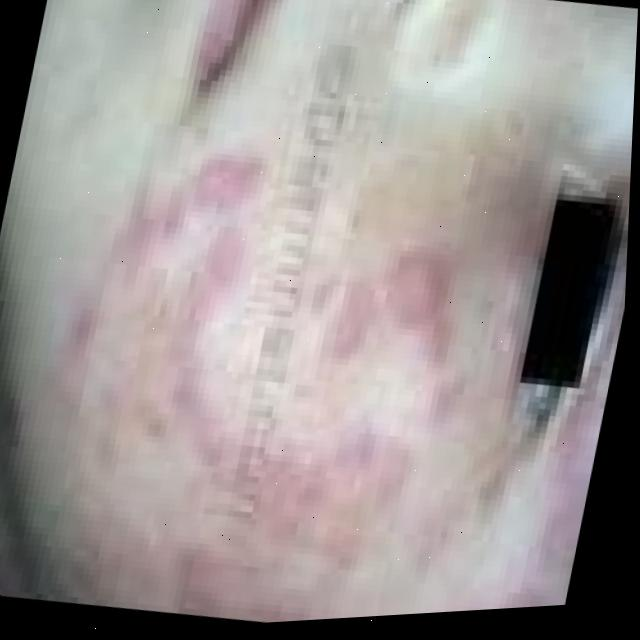Melasma: (43, 152, 491, 636)
